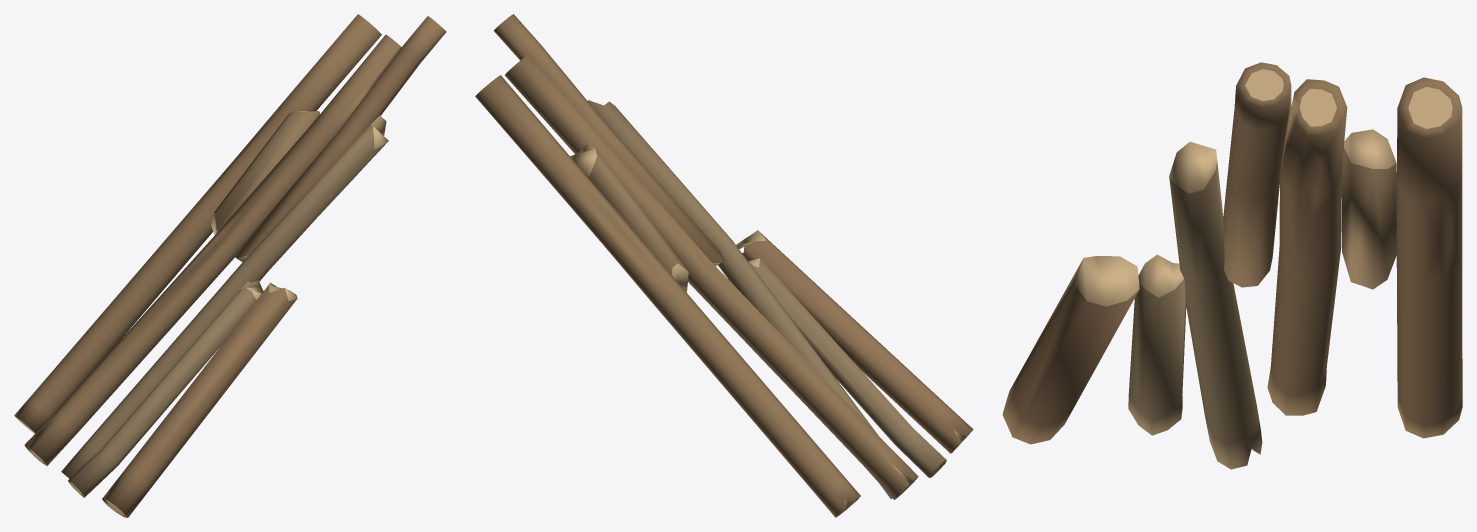
Rendered from rpgpp_av_roof_01_9x4x3_half_d.gltf.
The picture shows the model from 3 angles, left to right: view 1: azimuth 30°, elevation 25°; view 2: azimuth 150°, elevation 25°; view 3: azimuth 270°, elevation 25°; orthographic projection. The views are drawn at different scales.
Parts seen in each view (by area): view 1: rpgpp_av_roof_01_9x4x3_half_d; view 2: rpgpp_av_roof_01_9x4x3_half_d; view 3: rpgpp_av_roof_01_9x4x3_half_d.
Boxes of the visible parts, <box> form: rpgpp_av_roof_01_9x4x3_half_d: <box>14,14,446,517</box>; rpgpp_av_roof_01_9x4x3_half_d: <box>475,14,973,517</box>; rpgpp_av_roof_01_9x4x3_half_d: <box>1002,62,1462,469</box>.
Bounding box in the file's own units: 0.0614 × 0.0545 × 0.03.
1 material, 1 textured.
